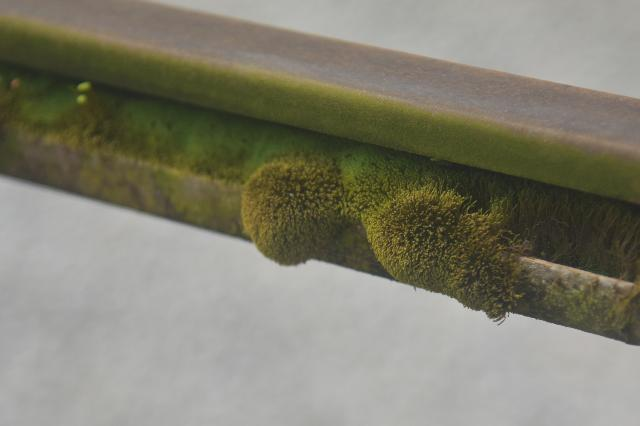MusgoMontesDelPlata: (350, 158, 529, 326), (239, 154, 351, 277), (532, 181, 640, 287), (107, 91, 234, 174)
